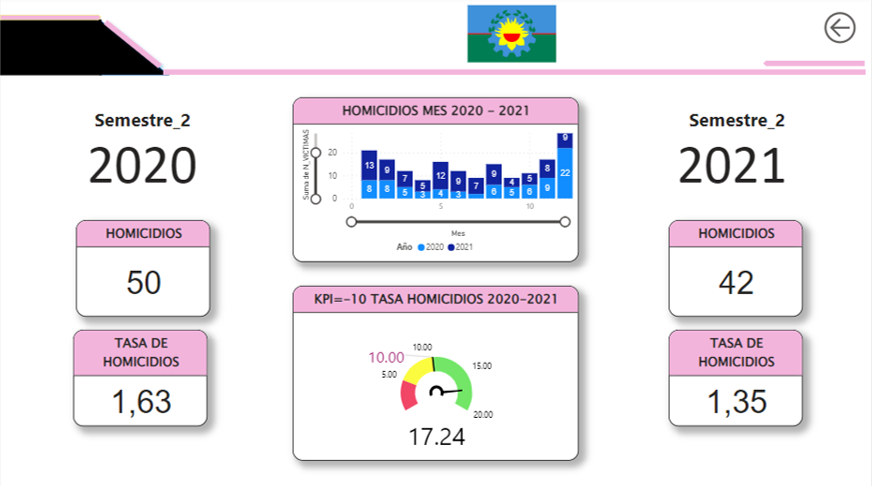

Layout of this report page (visuals, bound fields, positions):
{"tool":"powerbi","page":{"name":"KPI 1","canvas":[1280,720],"ordinal":2},"visuals":[{"type":"image","box":[681.3,0,140.4,107.4],"z":0},{"type":"shape","box":[146.3,32.8,103,82.1],"z":1000},{"type":"shape","box":[0,32.8,149.3,82.1],"z":2000},{"type":"shape","box":[0,25.6,148.9,7.8],"z":3000},{"type":"shape","box":[141.6,22.9,105.8,91.5],"z":4000},{"type":"shape","box":[1120.6,93.7,149.2,7.9],"z":5000},{"type":"shape","box":[238.8,65.8,1031.2,88.7],"z":6000},{"type":"card","title":"HOMICIDIOS","fields":{"Values":["Calendario.Homicidios_semestre2_2020"]},"box":[111,327.5,197.4,141.6],"z":7000},{"type":"textbox","box":[122.5,191.6,185.9,115.8],"z":8000},{"type":"card","title":"TASA DE HOMICIDIOS","fields":{"Values":["Calendario.Tasa_homicidios_2020_2"]},"box":[106.7,489.1,197.4,141.6],"z":9000},{"type":"textbox","box":[987.8,191.6,183.1,115.8],"z":10000},{"type":"card","title":"HOMICIDIOS","fields":{"Values":["Calendario.Homicidios_semestre2_2021"]},"box":[980.7,327.5,197.4,141.6],"z":11000},{"type":"card","title":"TASA DE HOMICIDIOS","fields":{"Values":["Calendario.Tasa_homicidios_2021_2"]},"box":[980.7,489.1,197.4,141.6],"z":12000},{"type":"Tachometer1474636471549","title":"KPI=-10 TASA HOMICIDIOS 2020-2021","fields":{"Y":["Calendario.Delta_Homicidios"]},"box":[430.1,423.3,420.5,257.4],"z":13000},{"type":"columnChart","title":"HOMICIDIOS MES 2020 - 2021","fields":{"Category":["Calendario.Mes"],"Y":["Sum(hechos_victimas_depurados.N_VICTIMAS)"],"Series":["Calendario.Año"]},"box":[430.1,147.3,420.5,241.7],"z":14000},{"type":"textbox","box":[133.6,155.4,170.2,58.6],"z":15000},{"type":"textbox","box":[1006.4,155.9,171.6,58.6],"z":16000},{"type":"actionButton","box":[1195.1,7.2,79.7,76.6],"z":16001}]}

Visuals, with their boxes in screenshot pixels (x1, y1, x2, y2), scaled from the page's 1280x720 canvas onto the 872x486 screenshot:
image: box=[464, 0, 560, 72]
shape: box=[100, 22, 170, 78]
shape: box=[0, 22, 102, 78]
shape: box=[0, 17, 101, 23]
shape: box=[96, 15, 169, 77]
shape: box=[763, 63, 865, 69]
shape: box=[163, 44, 865, 104]
"HOMICIDIOS" card: box=[76, 221, 210, 317]
textbox: box=[83, 129, 210, 207]
"TASA DE HOMICIDIOS" card: box=[73, 330, 207, 426]
textbox: box=[673, 129, 798, 207]
"HOMICIDIOS" card: box=[668, 221, 803, 317]
"TASA DE HOMICIDIOS" card: box=[668, 330, 803, 426]
"KPI=-10 TASA HOMICIDIOS 2020-2021" Tachometer1474636471549: box=[293, 286, 579, 459]
"HOMICIDIOS MES 2020 - 2021" columnChart: box=[293, 99, 579, 263]
textbox: box=[91, 105, 207, 144]
textbox: box=[686, 105, 803, 145]
actionButton: box=[814, 5, 868, 57]
